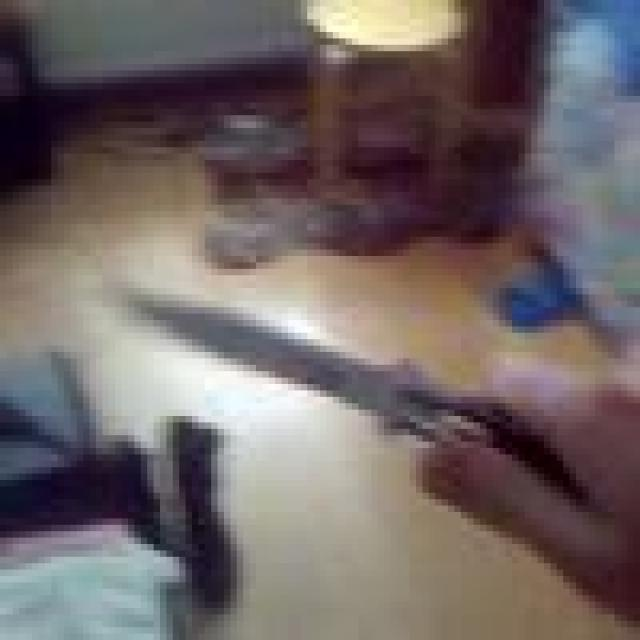knife: (112, 260, 496, 432)
